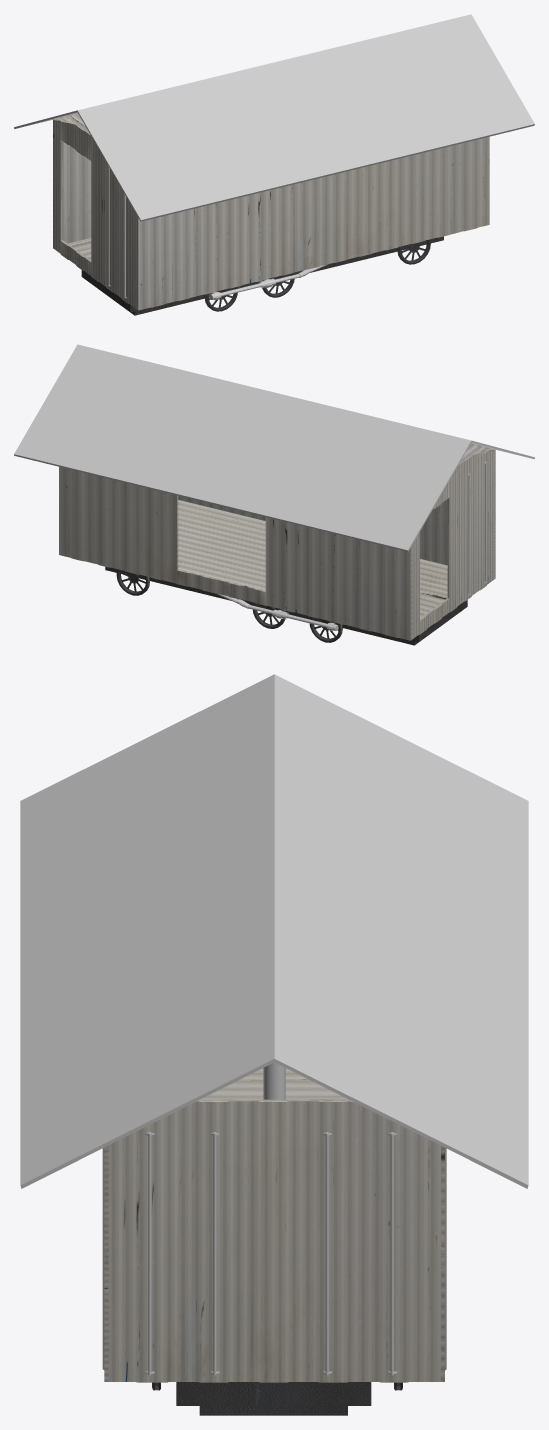
File: Vagão.fbx
3 views of the same model, one above another, from view 1: azimuth 30°, elevation 25°; view 2: azimuth 150°, elevation 25°; view 3: azimuth 270°, elevation 25° (orthographic). The views are drawn at different scales.
Visible parts, largest first — view 1: P2_C1; view 2: P2_C1; view 3: P2_C1.
Part boxes in pixels (x1,y1,x2,y2): P2_C1: (14,14,534,315); P2_C1: (14,344,534,645); P2_C1: (20,674,528,1415).
Size of the model in its own units: 21.21 by 10.64 by 11.85.
